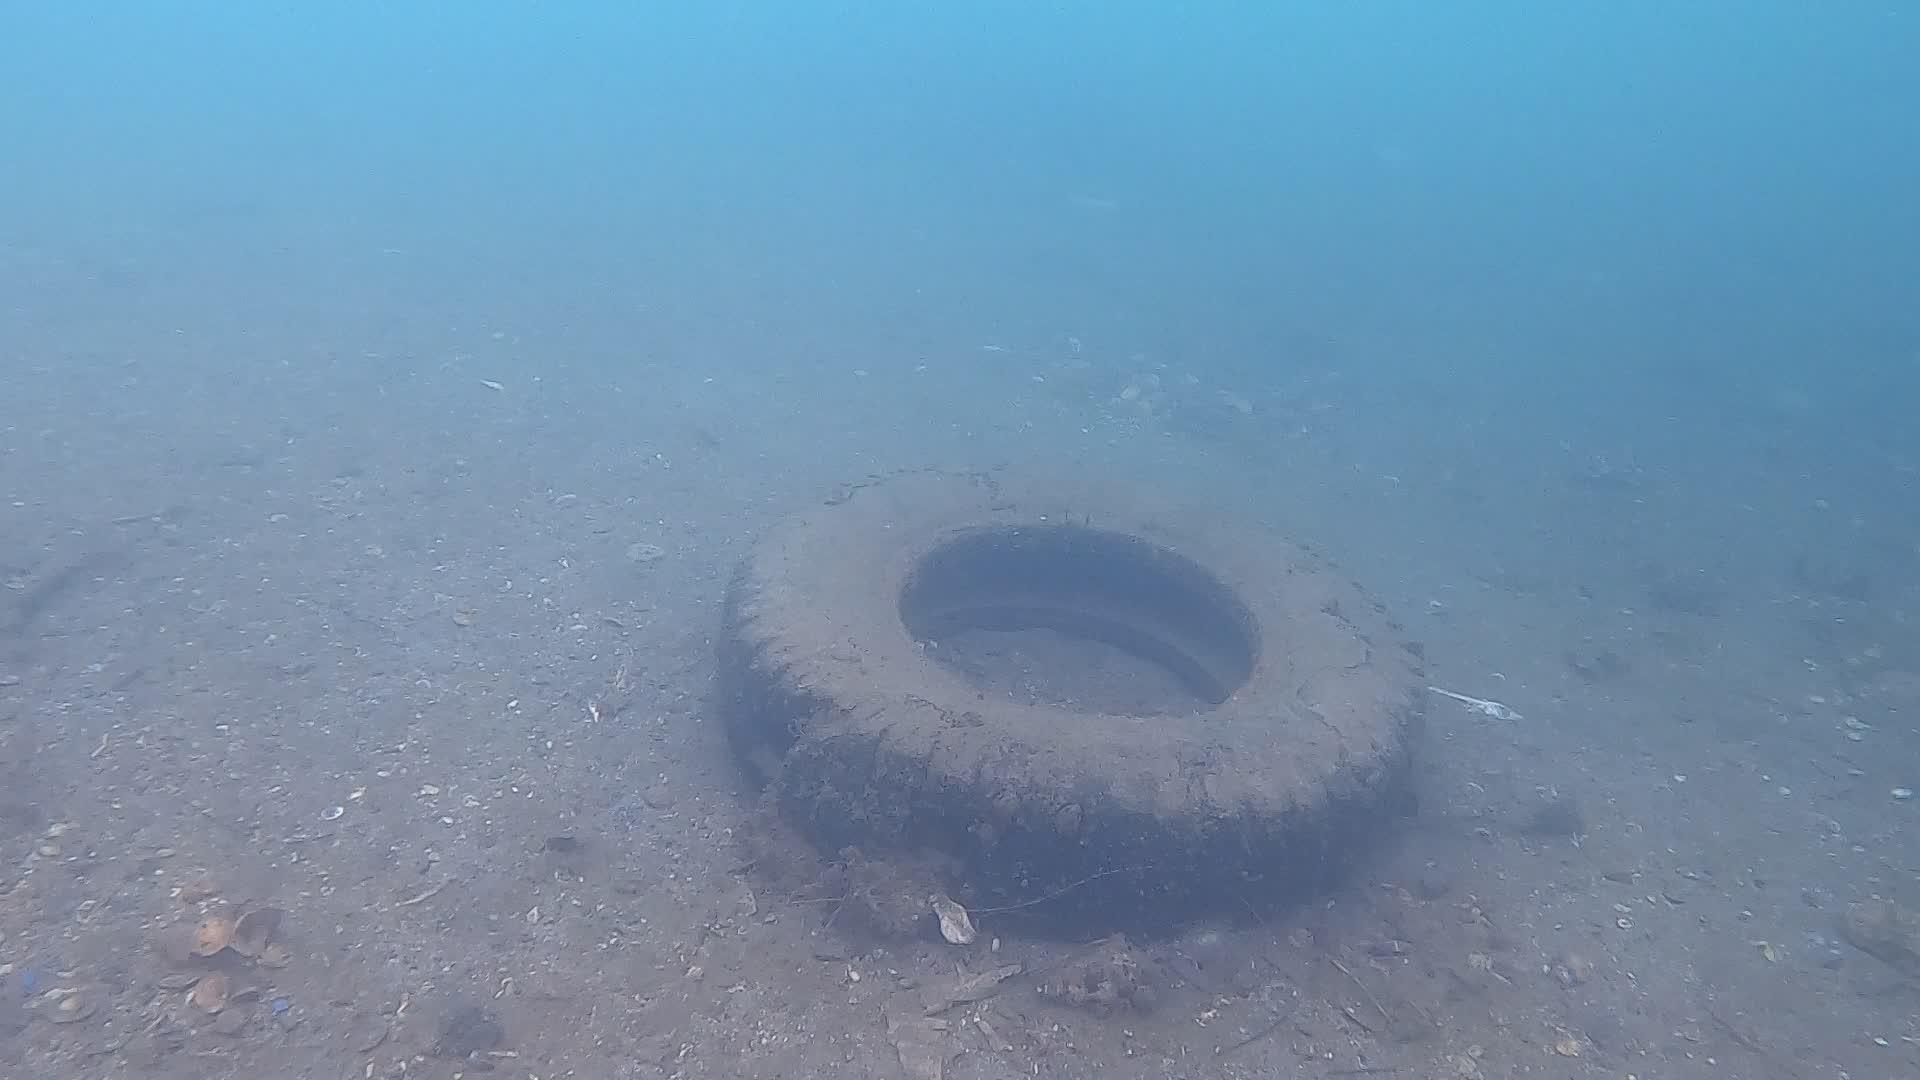tire: (719, 452, 1429, 935)
